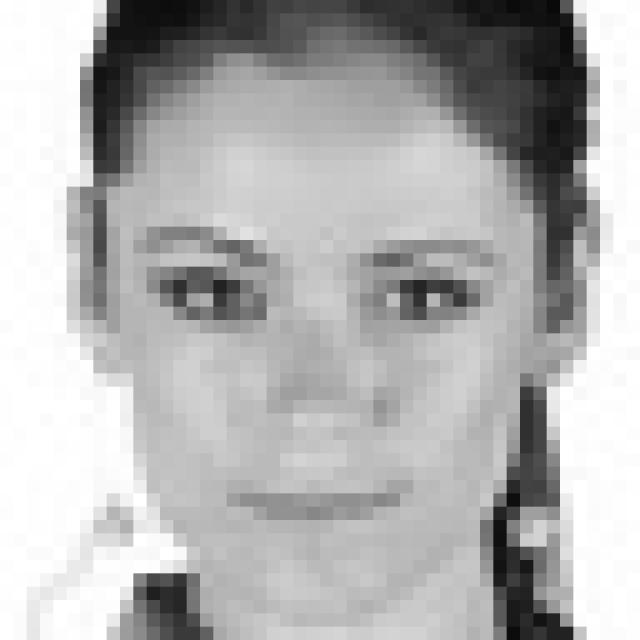neutral: (146, 213, 504, 546)
